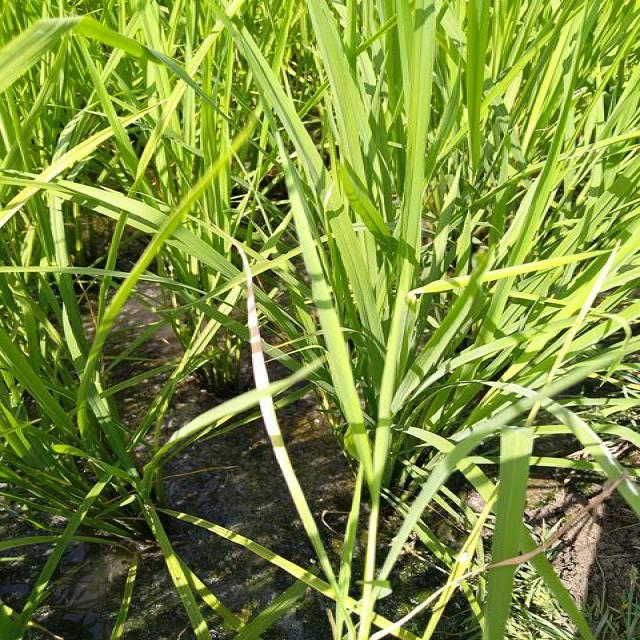Leaf Blight: (247, 266, 333, 581)
